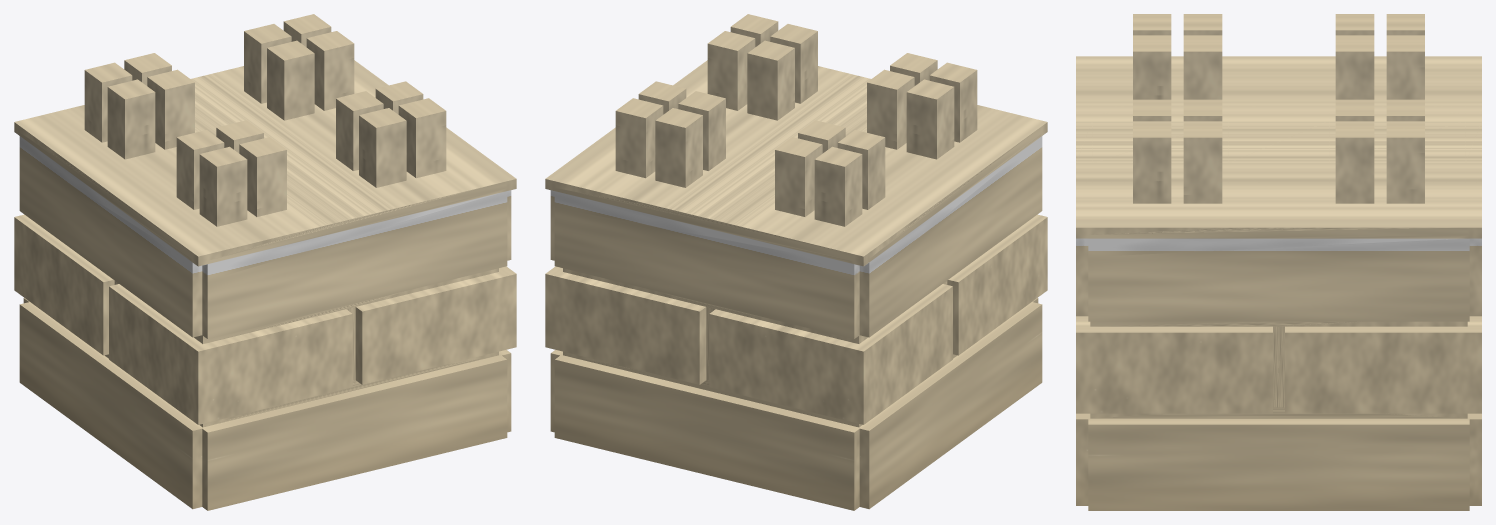
The picture shows the model from 3 angles, left to right: view 1: azimuth 30°, elevation 25°; view 2: azimuth 150°, elevation 25°; view 3: azimuth 270°, elevation 25°; orthographic projection. The views are drawn at different scales.
Parts seen in each view (by area): view 1: wall; view 2: wall; view 3: wall.
Boxes of the visible parts, x1,y1,x2,y2 form: wall: (14, 14, 516, 510); wall: (545, 14, 1047, 510); wall: (1076, 14, 1481, 510).
Bounding box in the file's own units: 1 × 0.95 × 1.
1 material, 1 textured.
